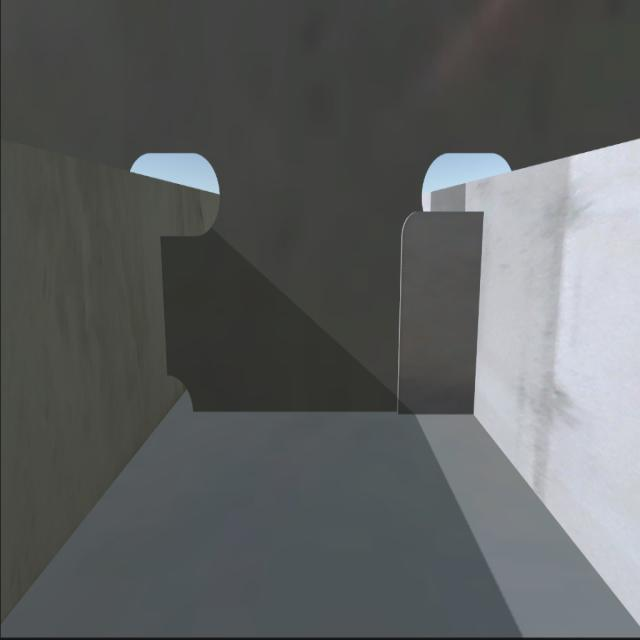fillet_hole: (163, 373, 195, 411)
fillet_yong_jeop_jang: (198, 405, 474, 418)
longi_yong_jeop_jang: (474, 218, 484, 414), (158, 239, 172, 370)
plate_CP05: (394, 208, 483, 416)
